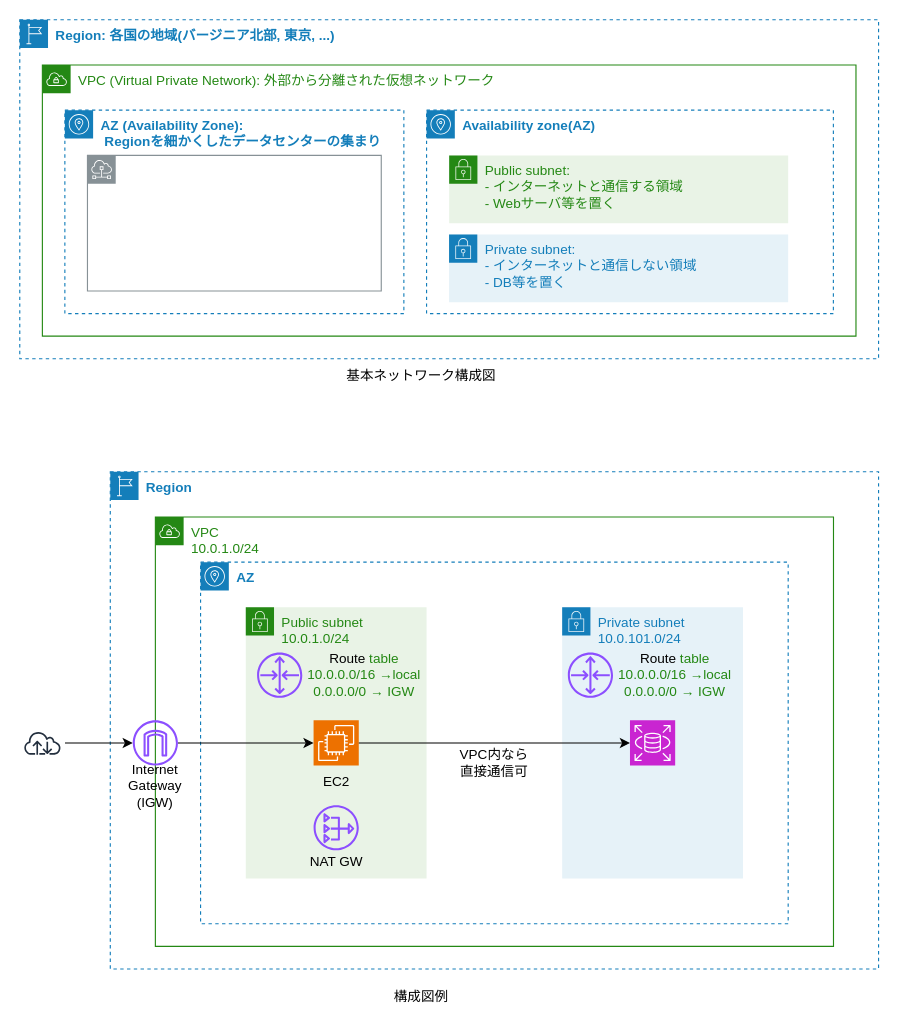
The diagram is 898 pixels wide and 1034 high, and some of its shapes have lost their labels. Each missing label, with the centre of its shape:
Internet: the point at 42,742
Subnet: - VPCを細かくしたもの - AZ内に設置する: the point at 233,222
